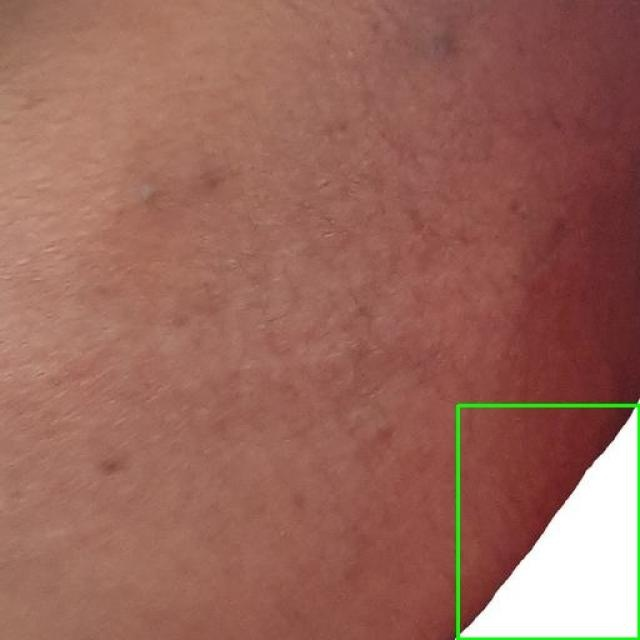Contact Dermatitis: (458, 405, 639, 639)
